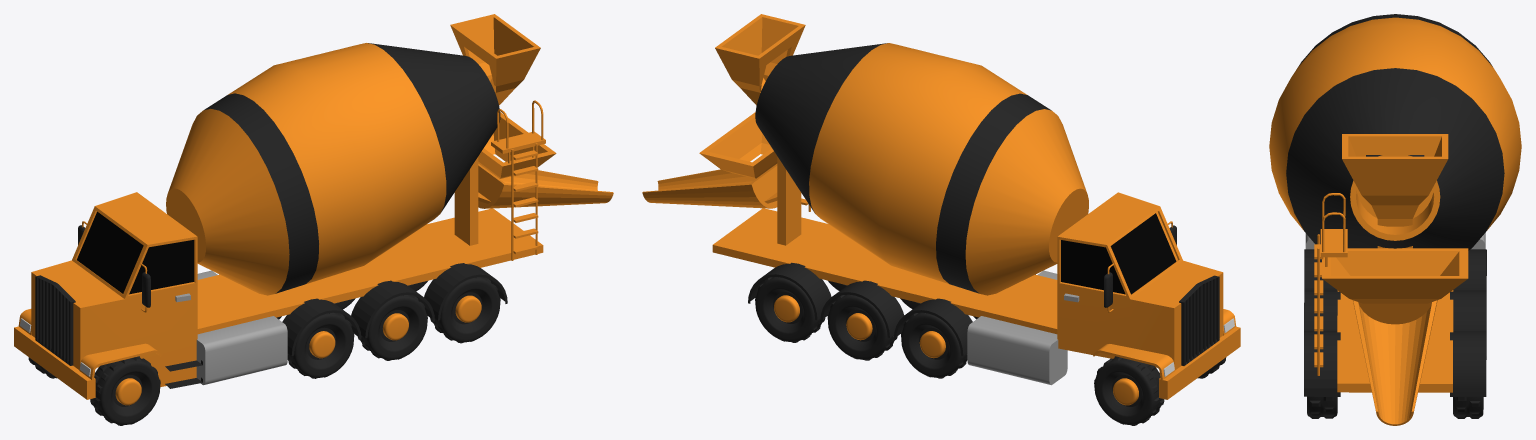
File: Cement vehicle.fbx
3 views of the same model, side by side, from view 1: azimuth 30°, elevation 25°; view 2: azimuth 150°, elevation 25°; view 3: azimuth 270°, elevation 25° (orthographic). The views are drawn at different scales.
Visible parts, largest first — view 1: Pallet.004; view 2: Pallet.004; view 3: Pallet.004.
Part boxes in pixels (x1=…): Pallet.004: x1=14, y1=14, x2=613, y2=425; Pallet.004: x1=642, y1=14, x2=1240, y2=425; Pallet.004: x1=1269, y1=14, x2=1521, y2=425.
Bounding box in the file's own units: 198 × 277 × 578.
